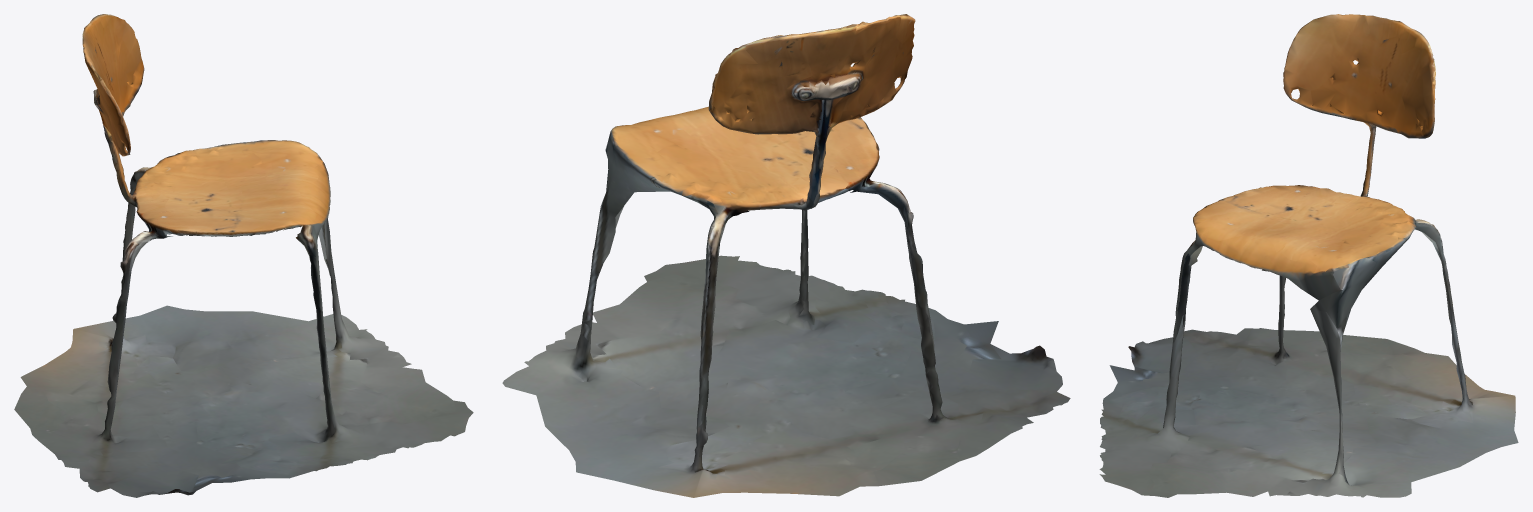
File: Stuhl.glb
3 views of the same model, side by side, from view 1: azimuth 30°, elevation 25°; view 2: azimuth 150°, elevation 25°; view 3: azimuth 270°, elevation 25° (orthographic). The views are drawn at different scales.
Visible parts, largest first — view 1: Stuhl; view 2: Stuhl; view 3: Stuhl.
Boxes of the visible parts, left/top/right/bottom form: Stuhl: left=14, top=14, right=473, bottom=497; Stuhl: left=502, top=14, right=1070, bottom=497; Stuhl: left=1099, top=14, right=1518, bottom=497.
Size of the model in its own units: 0.8605 by 0.8289 by 0.868.
1 material, 1 textured.
